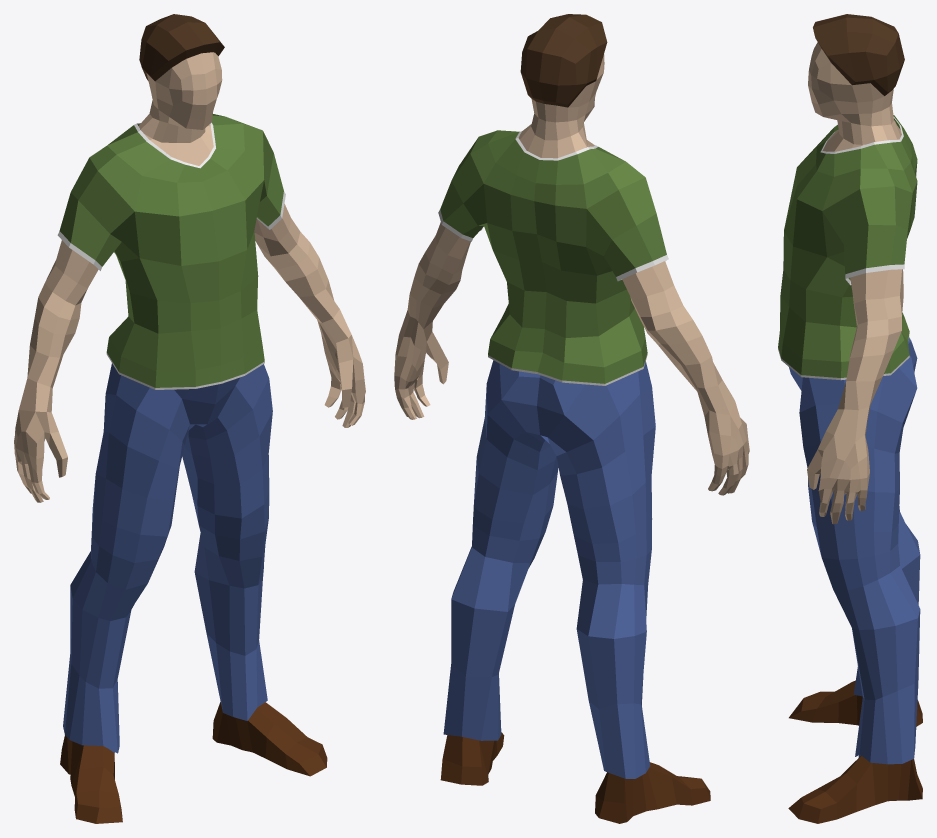
The picture shows the model from 3 angles, left to right: view 1: azimuth 30°, elevation 25°; view 2: azimuth 150°, elevation 25°; view 3: azimuth 270°, elevation 25°; orthographic projection. The views are drawn at different scales.
Parts seen in each view (by area): view 1: pants, shirt, body, hair; view 2: pants, shirt, body, hair; view 3: pants, shirt, body, hair.
Boxes of the visible parts, x1,y1,x2,y2 form: pants: (63,363,272,753); shirt: (57,114,285,389); body: (14,52,365,823); hair: (139,14,224,81); pants: (443,360,655,778); shirt: (438,130,668,385); body: (394,54,749,823); hair: (520,14,607,107); pants: (789,337,920,764); shirt: (778,115,917,380); body: (788,42,922,823); hair: (813,14,904,95).
Size of the model in its own units: 349 by 743 by 131.
